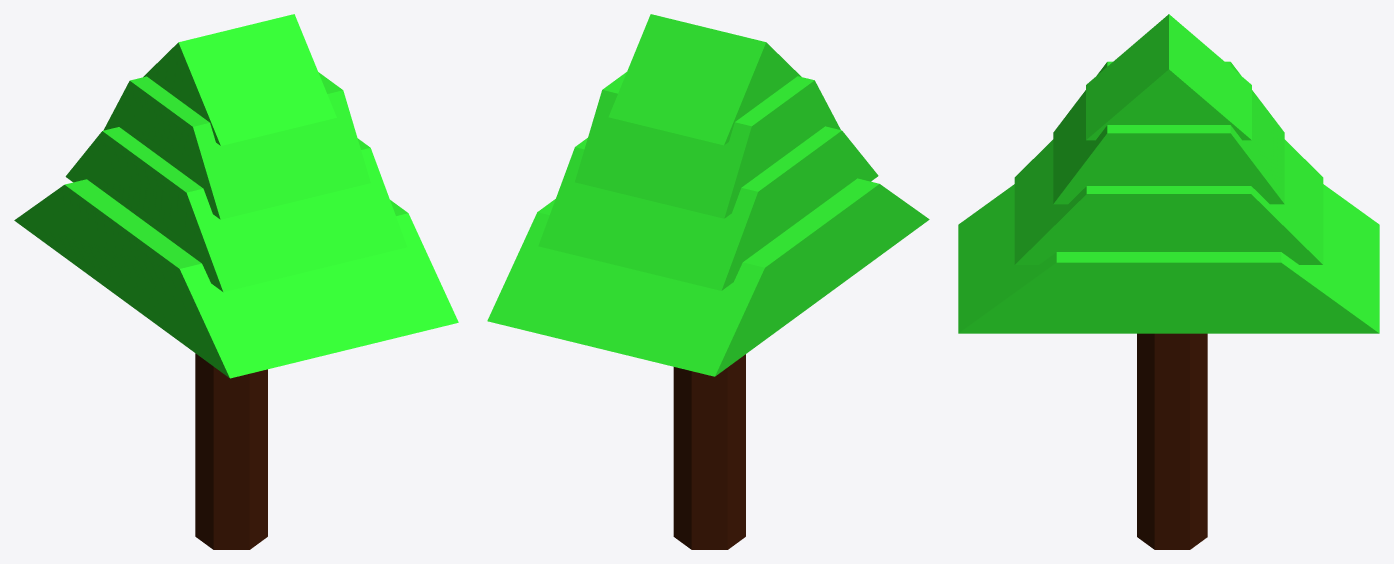
File: Wood_Ver2.obj
3 renders of one model, left to right at view 1: azimuth 30°, elevation 25°; view 2: azimuth 150°, elevation 25°; view 3: azimuth 270°, elevation 25°, orthographic. The views are drawn at different scales.
Parts seen in each view (by area): view 1: Wood10; view 2: Wood10; view 3: Wood10.
Boxes of the visible parts, x1,y1,x2,y2 form: Wood10: (14, 14, 458, 549); Wood10: (487, 14, 929, 549); Wood10: (958, 14, 1379, 549).
Size of the model in its own units: 1.21 by 2.57 by 1.98.
